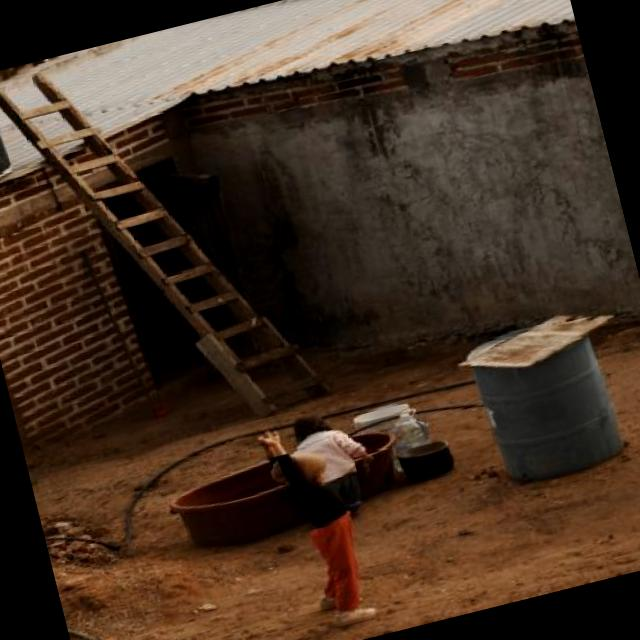Person: (268, 414, 381, 627), (282, 399, 386, 518)
